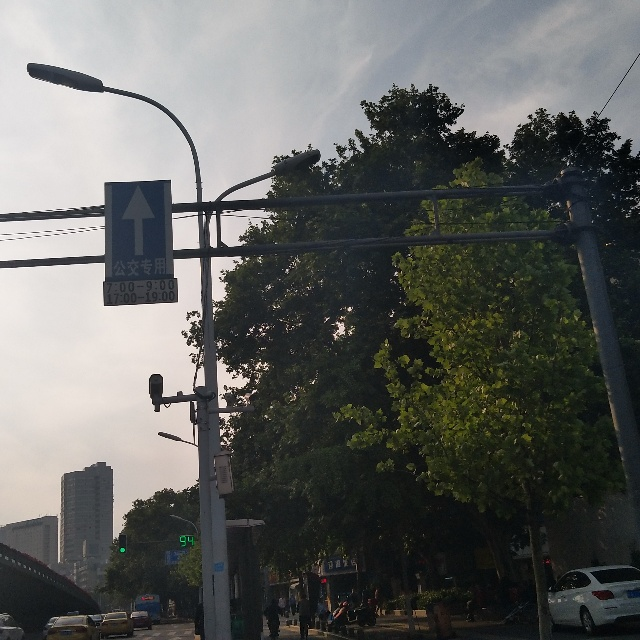straight: (107, 186, 169, 257)
